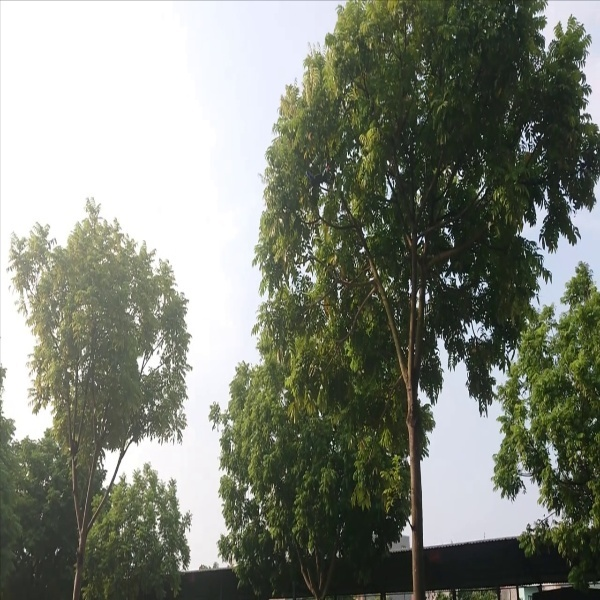drone: (299, 161, 338, 187)
